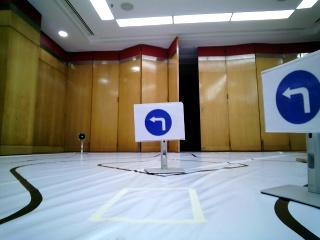left: (260, 74, 320, 130), (139, 105, 187, 140)
